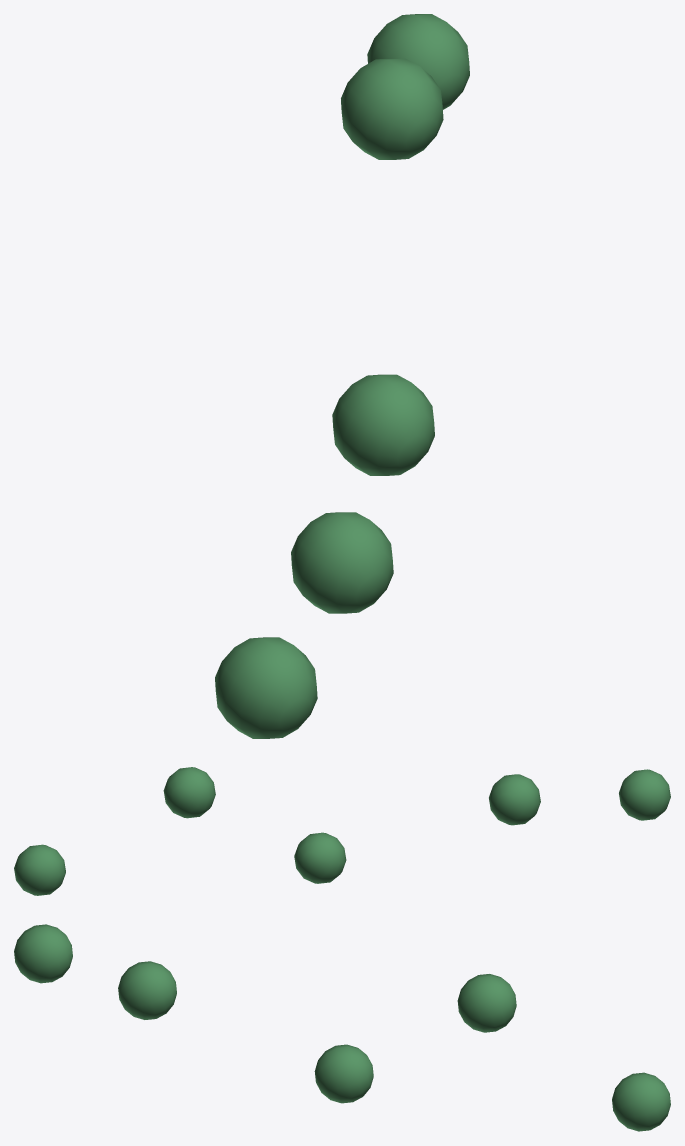
3 renders of one model, top to bottom at view 1: azimuth 30°, elevation 25°; view 2: azimuth 150°, elevation 25°; view 3: azimuth 270°, elevation 25°, orthographic. The views are drawn at different scales.
Parts seen in each view (by area): view 1: 左侧臂淋巴结; view 2: 左侧臂淋巴结; view 3: 左侧臂淋巴结.
Boxes of the visible parts, left/top/right/bottom form: 左侧臂淋巴结: left=215, top=14, right=469, bottom=738; 左侧臂淋巴结: left=14, top=767, right=670, bottom=895; 左侧臂淋巴结: left=14, top=924, right=670, bottom=1131.
Bounding box in the file's own units: 0.0325 × 0.0115 × 0.0424.
